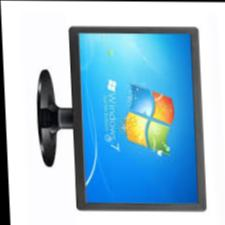monitor: (28, 21, 208, 214)
